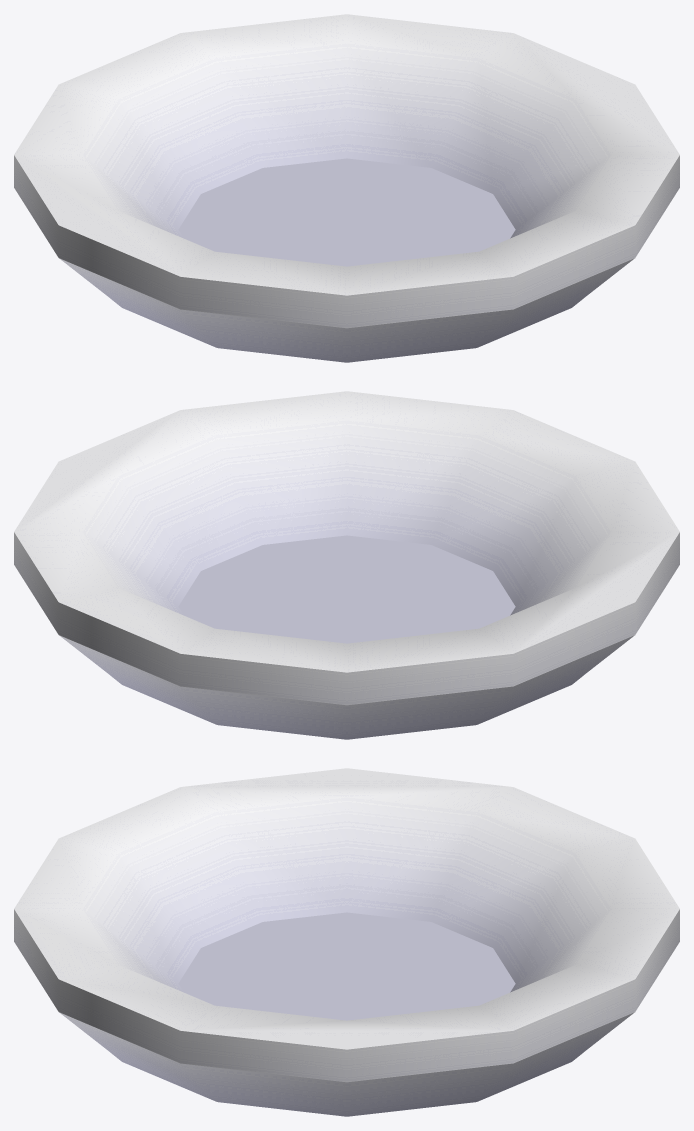
File: food-plate-deep.glb
3 views of the same model, one above another, from view 1: azimuth 30°, elevation 25°; view 2: azimuth 150°, elevation 25°; view 3: azimuth 270°, elevation 25° (orthographic).
Visible parts, largest first — view 1: plate-deep; view 2: plate-deep; view 3: plate-deep.
Part boxes in pixels (x1,y1,x2,y2): plate-deep: (14,14,679,362); plate-deep: (14,391,679,739); plate-deep: (14,768,679,1116).
Size of the model in its own units: 0.8918 by 0.1449 by 0.8918.
Materials: 1 (1 with a texture image).
